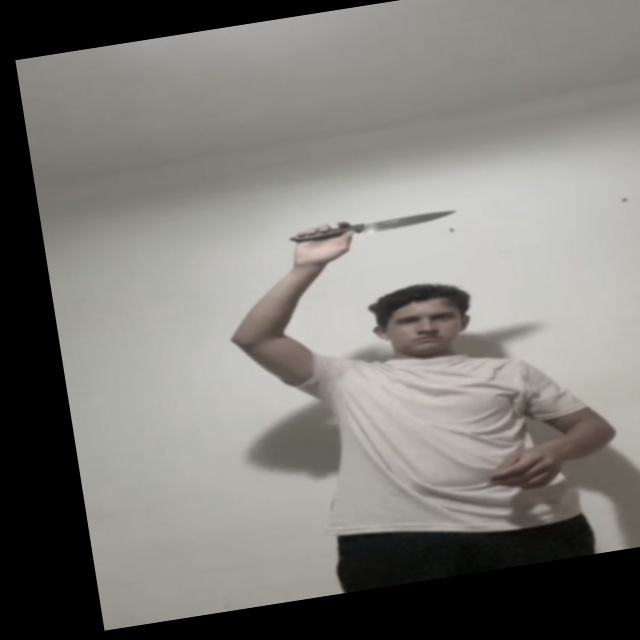Sharp-Object: (355, 206, 463, 236)
